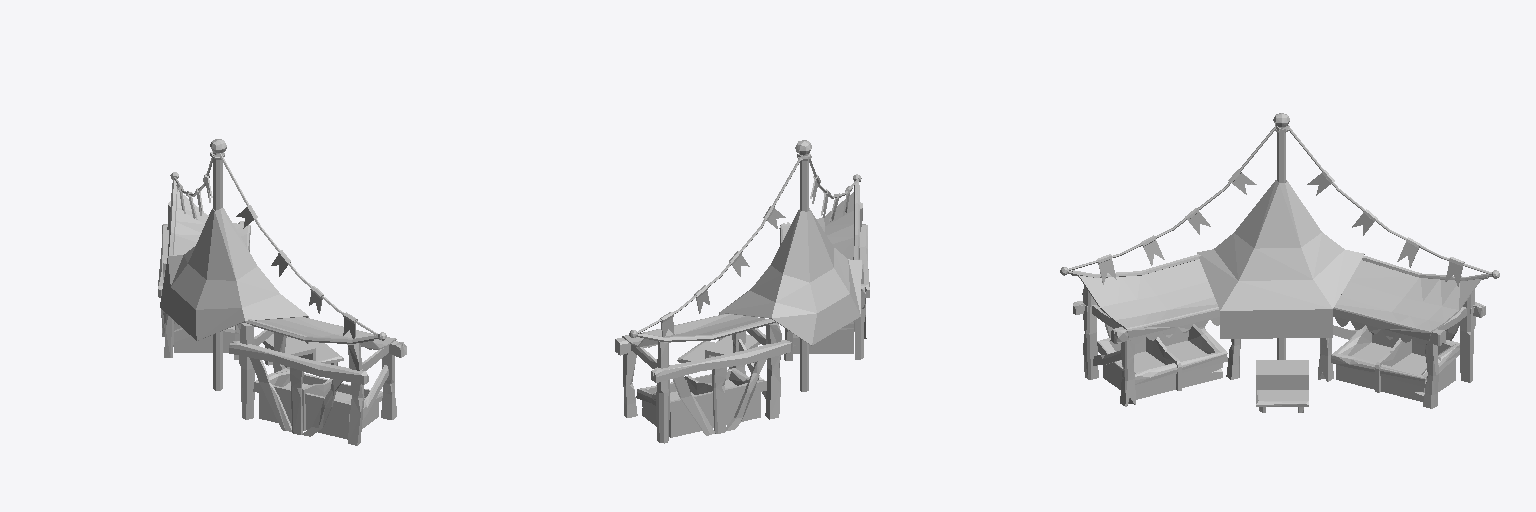
File: tent04.obj
3 renders of one model, left to right at view 1: azimuth 30°, elevation 25°; view 2: azimuth 150°, elevation 25°; view 3: azimuth 270°, elevation 25°, orthographic.
Parts seen in each view (by area): view 1: tent04; view 2: tent04; view 3: tent04.
Boxes of the visible parts, <box> form: tent04: <box>158,139,406,445</box>; tent04: <box>615,140,869,443</box>; tent04: <box>1060,113,1499,412</box>.
Size of the model in its own units: 0.0662 by 0.1035 by 0.1655.